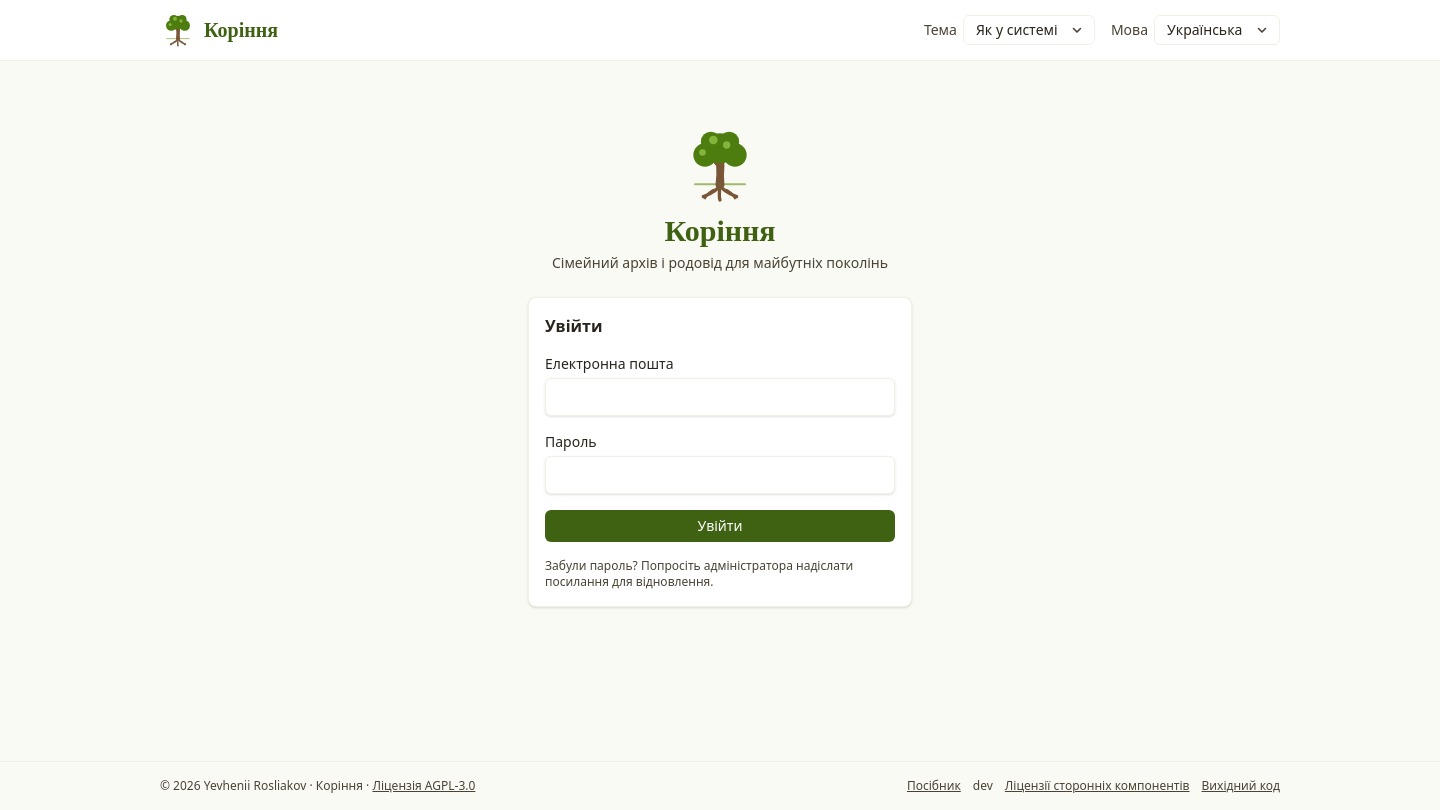
Scenario: App › asks for a second factor when 2FA is enabled
Type "a@b.cz" into the field labelled "Електронна пошта" at (720, 397), box [545, 378, 895, 416]
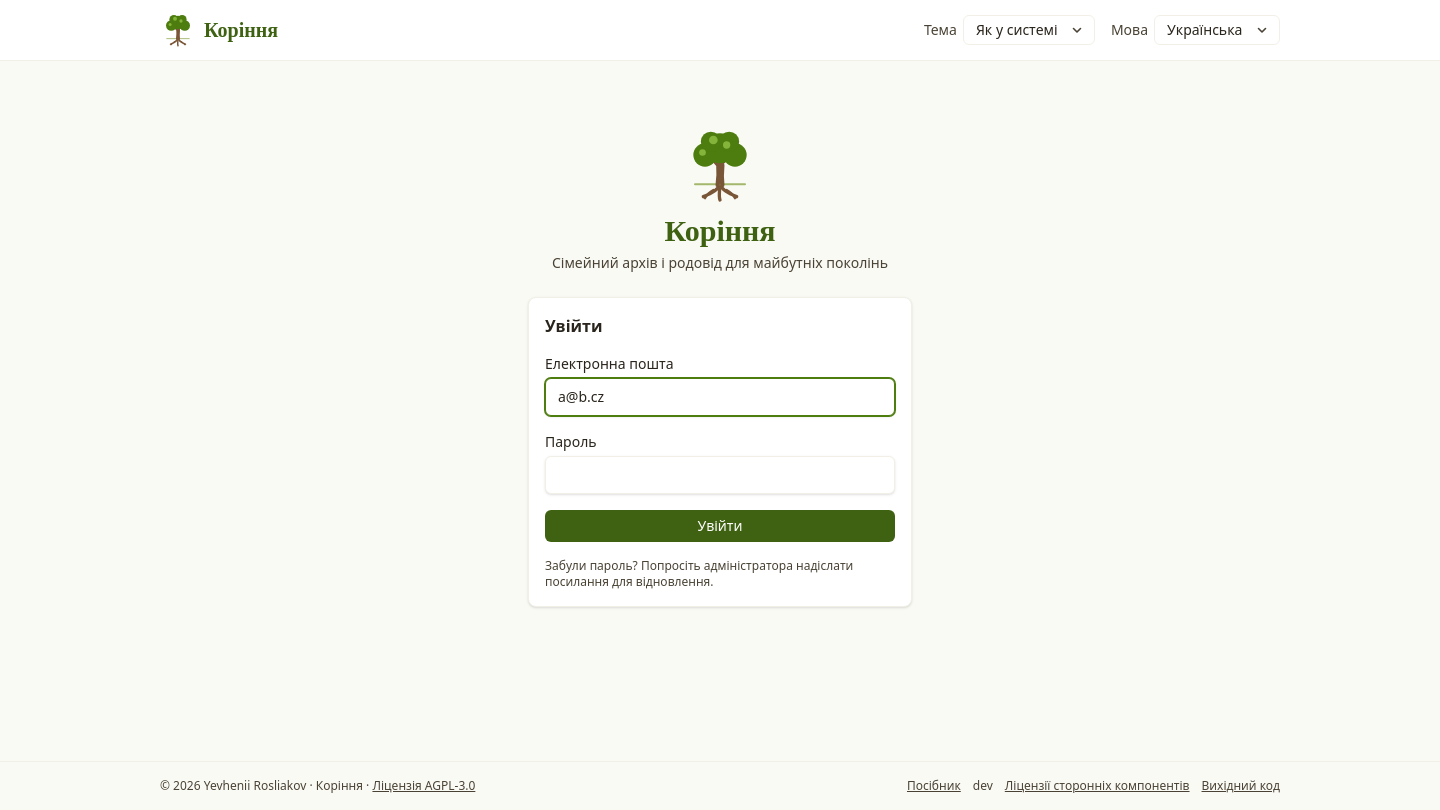
Type "x" into the password field labelled "Пароль" at (720, 475), box [545, 456, 895, 494]
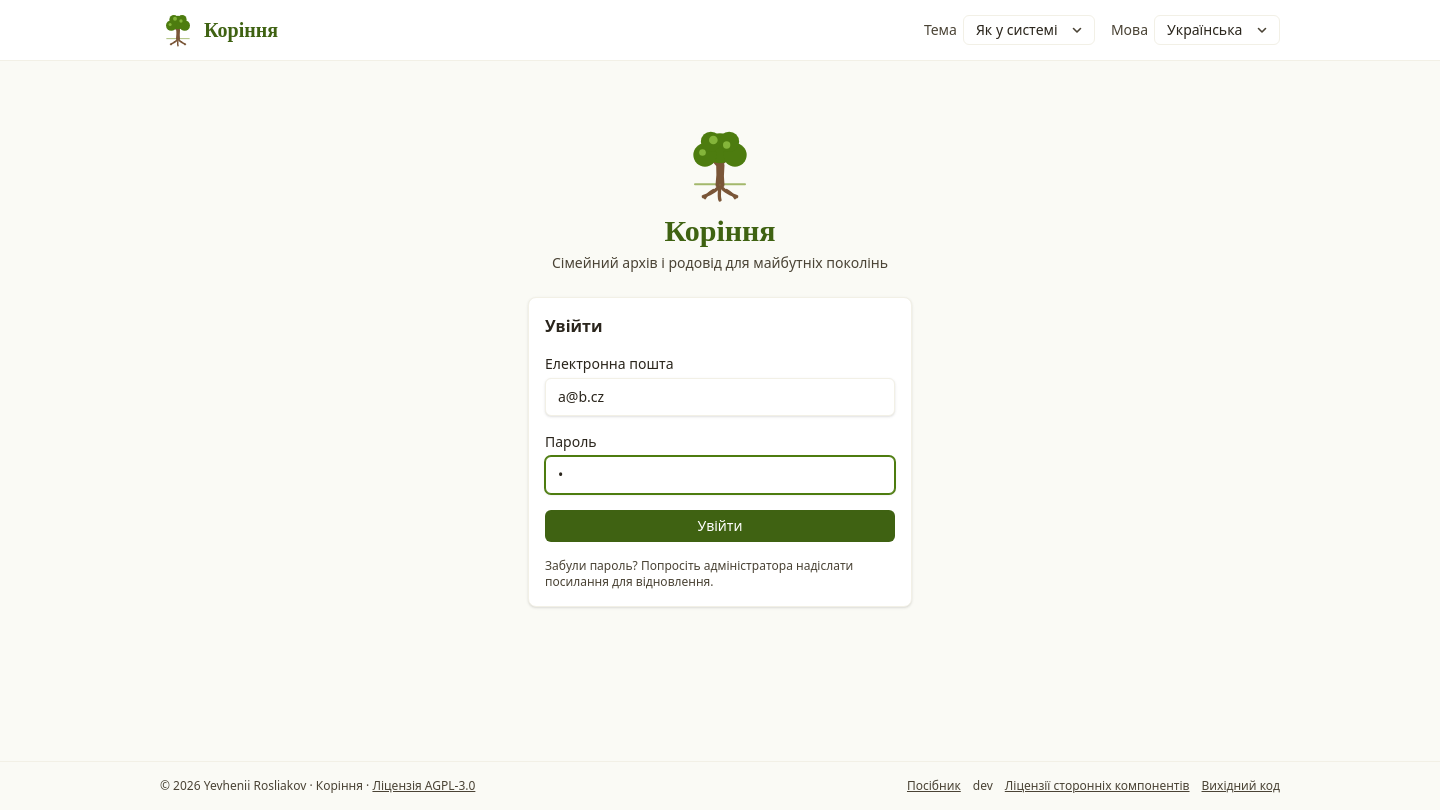
Click the button "Увійти" at (720, 526), box [545, 510, 895, 542]
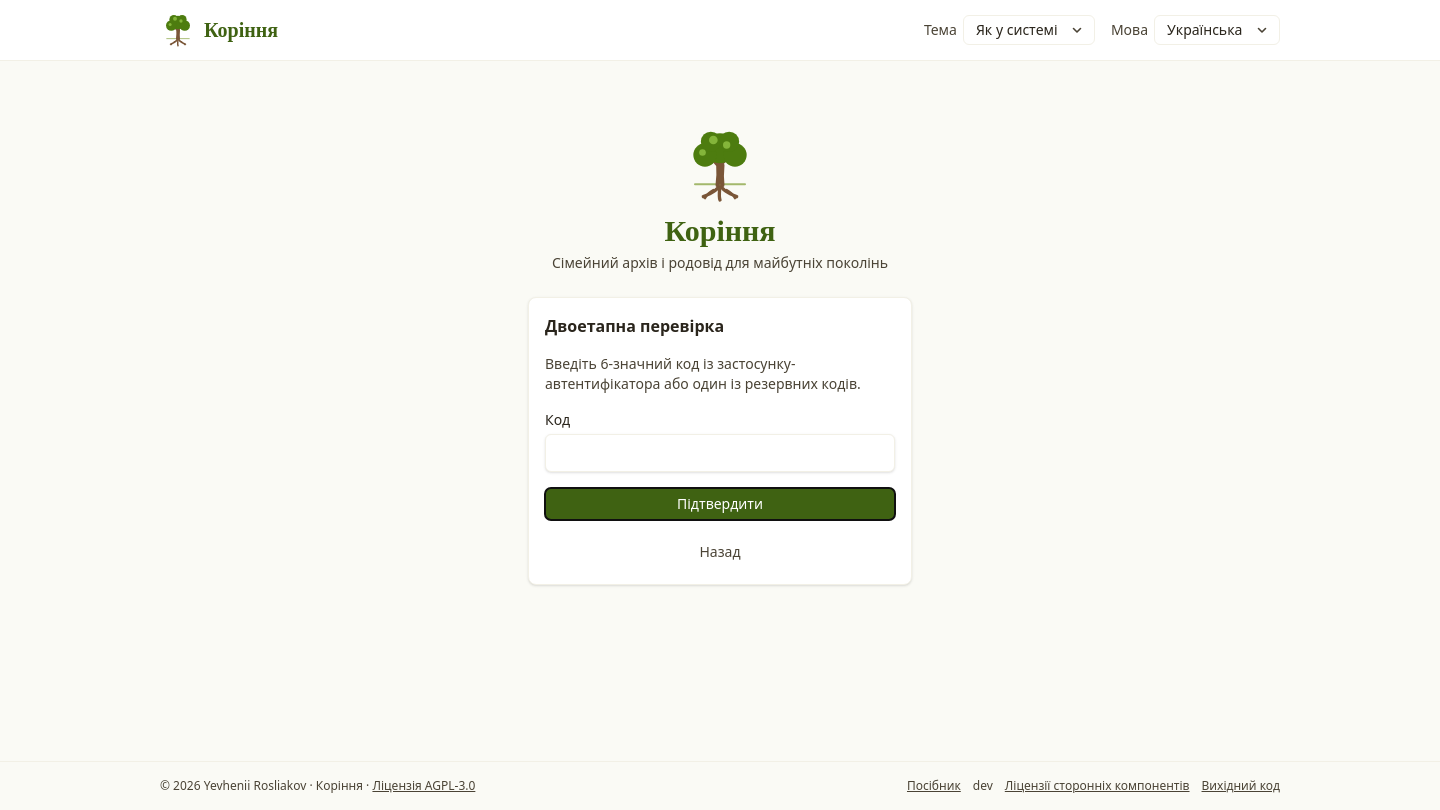
Type "123456" into the field labelled "Код" at (720, 453), box [545, 434, 895, 472]
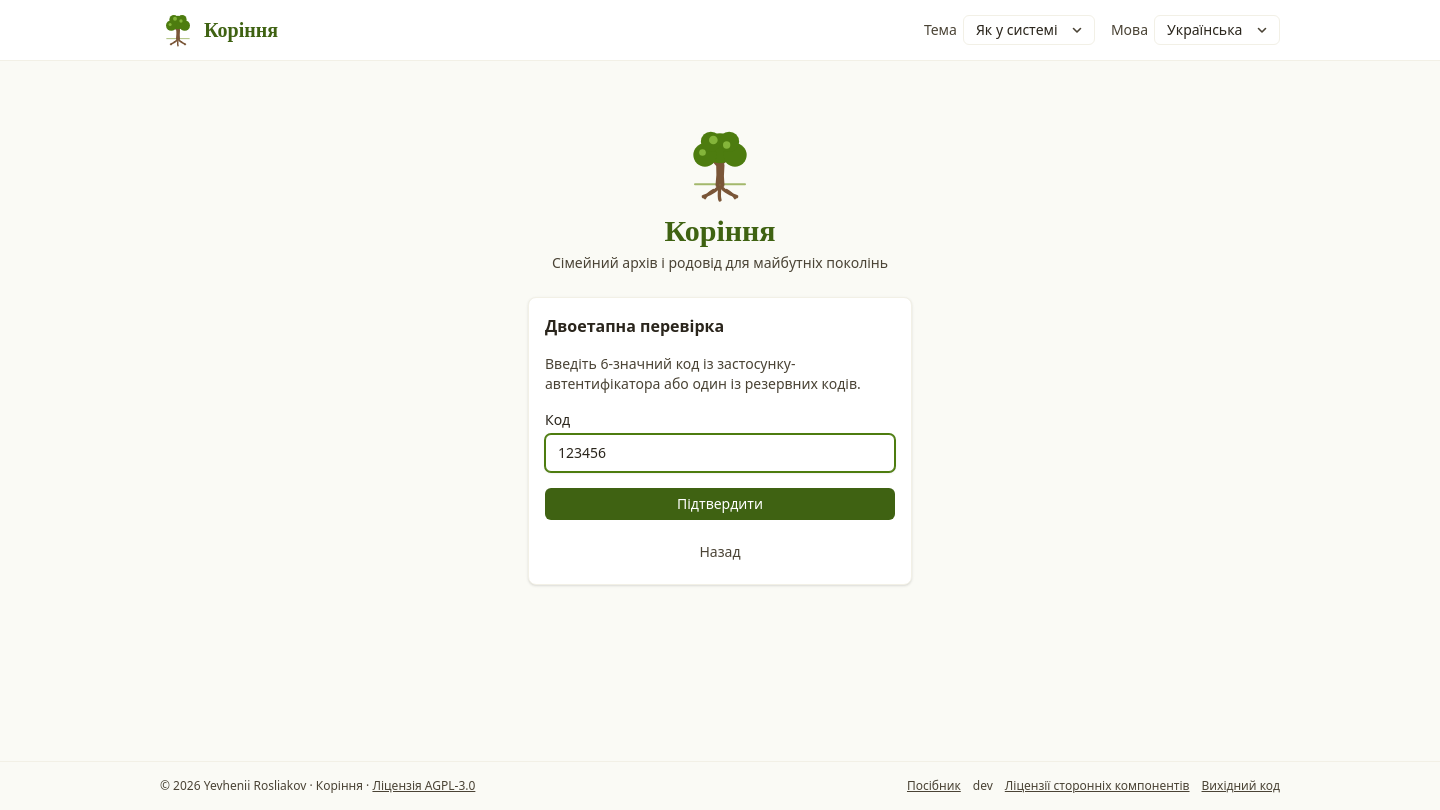
Click the button "Підтвердити" at (720, 504), box [545, 488, 895, 520]
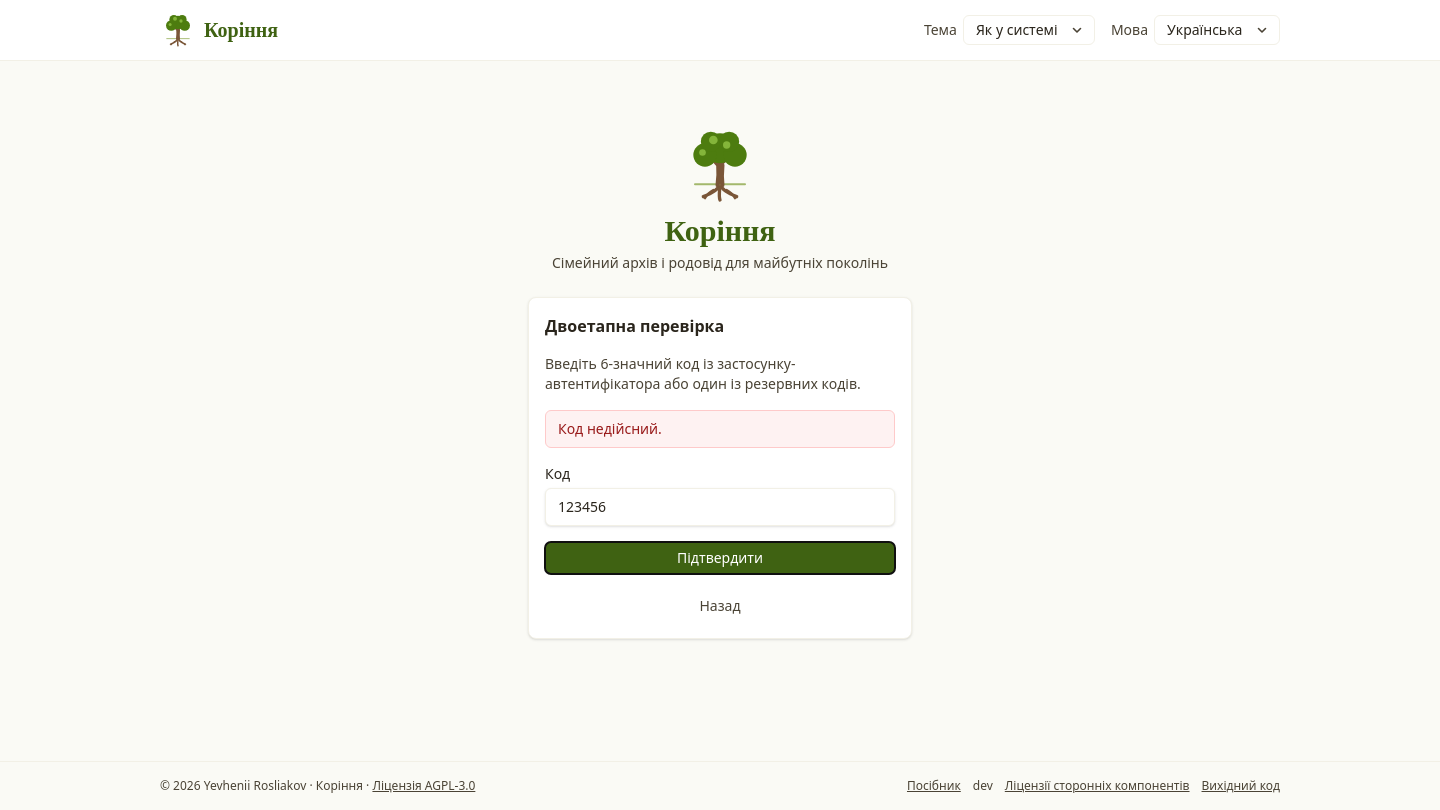
Expected: the text "Код недійсний." is shown, [545, 410, 895, 448]
